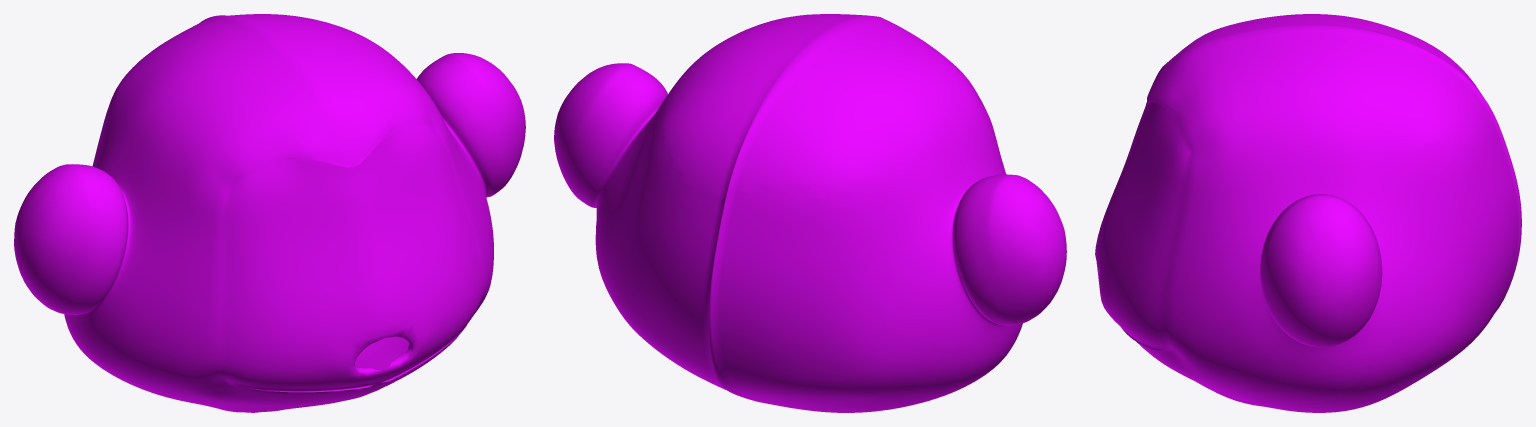
Rendered from zone1-singe-purple.gltf.
3 views of the same model, side by side, from view 1: azimuth 30°, elevation 25°; view 2: azimuth 150°, elevation 25°; view 3: azimuth 270°, elevation 25° (orthographic).
Visible parts, largest first — view 1: Tete; view 2: Tete; view 3: Tete.
Part boxes in pixels (<box>): Tete: <box>14,14,525,412</box>; Tete: <box>554,14,1066,412</box>; Tete: <box>1095,14,1521,412</box>.
Size of the model in its own units: 3.42 by 2.32 by 2.53.
